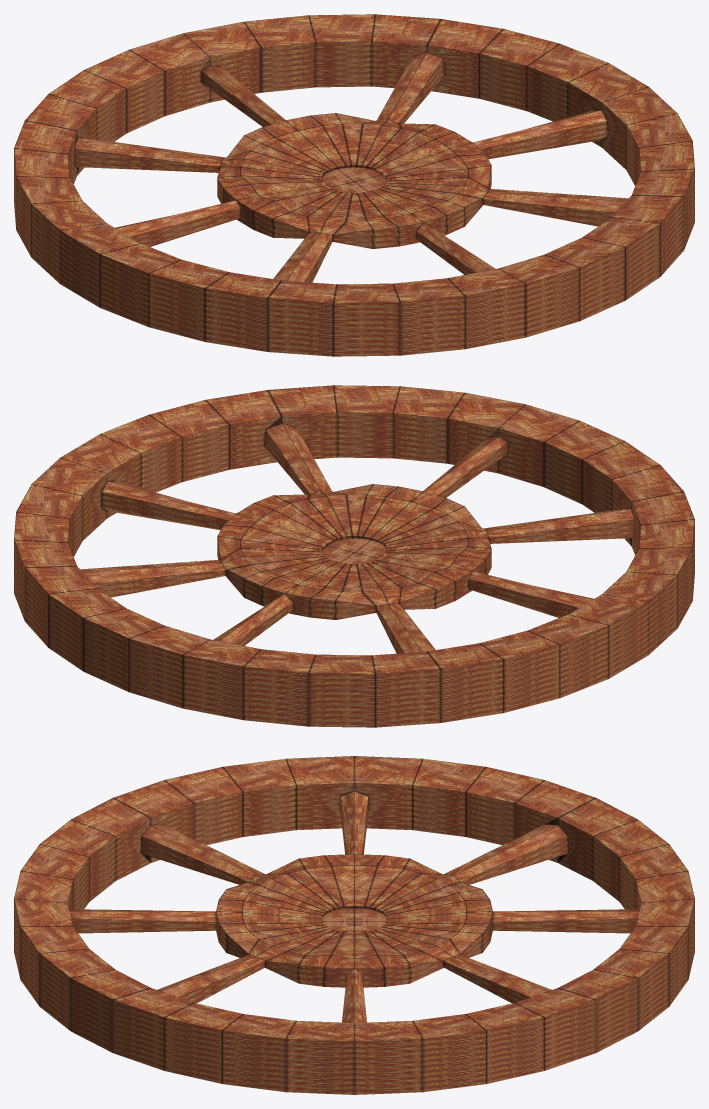
Rendered from syarin.fbx.
3 views of the same model, one above another, from view 1: azimuth 30°, elevation 25°; view 2: azimuth 150°, elevation 25°; view 3: azimuth 270°, elevation 25° (orthographic).
Parts seen in each view (by area): view 1: syarin2; view 2: syarin2; view 3: syarin2.
Part boxes in pixels (left/top/right/bottom): syarin2: left=14, top=14, right=694, bottom=356; syarin2: left=14, top=385, right=694, bottom=727; syarin2: left=14, top=756, right=694, bottom=1094.
Bounding box in the file's own units: 256 × 22.33 × 258.
Materials: 1 (1 with a texture image).
